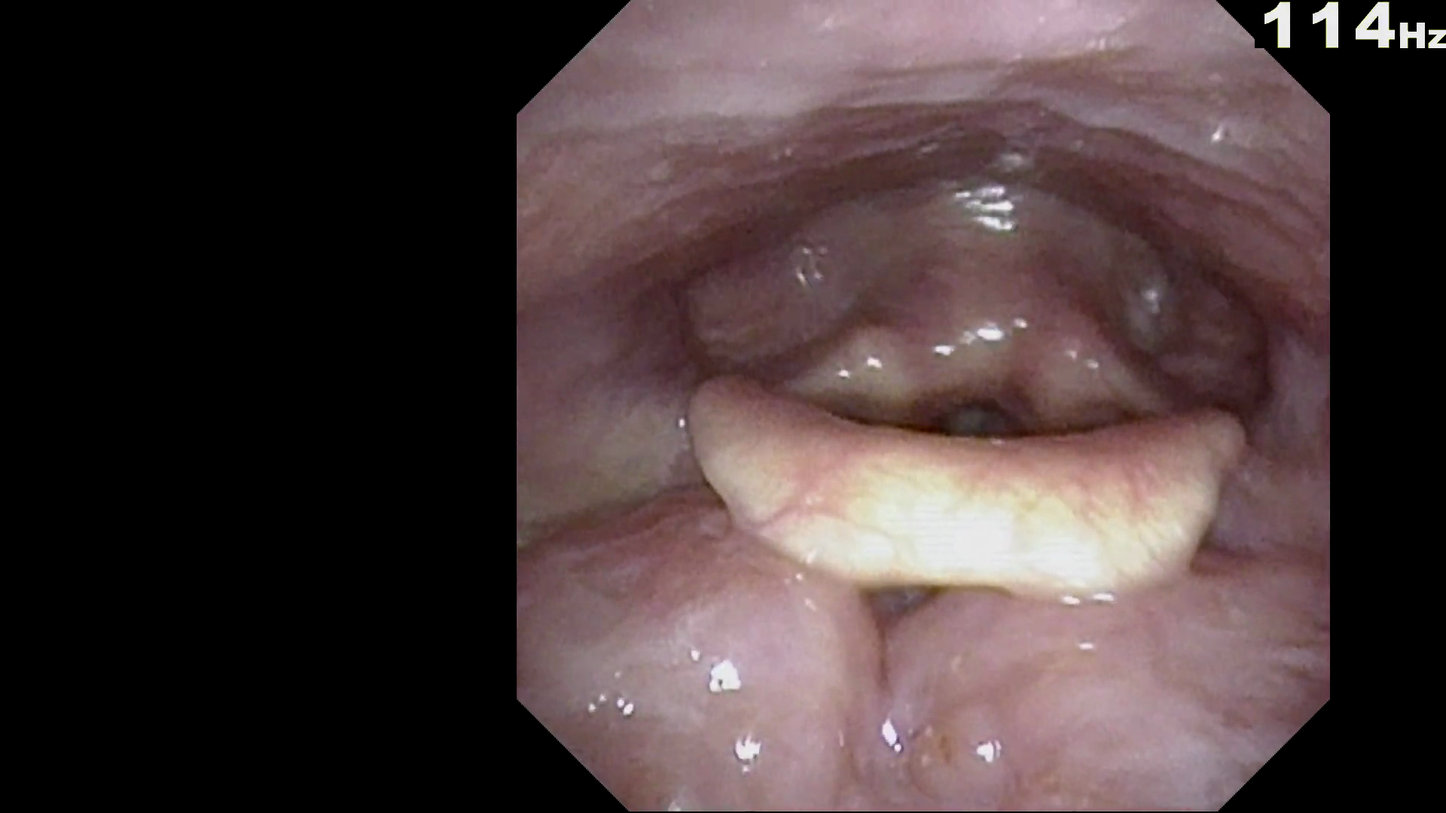epiglottis: (675, 351, 1277, 614)
trachea: (908, 329, 1054, 483)
